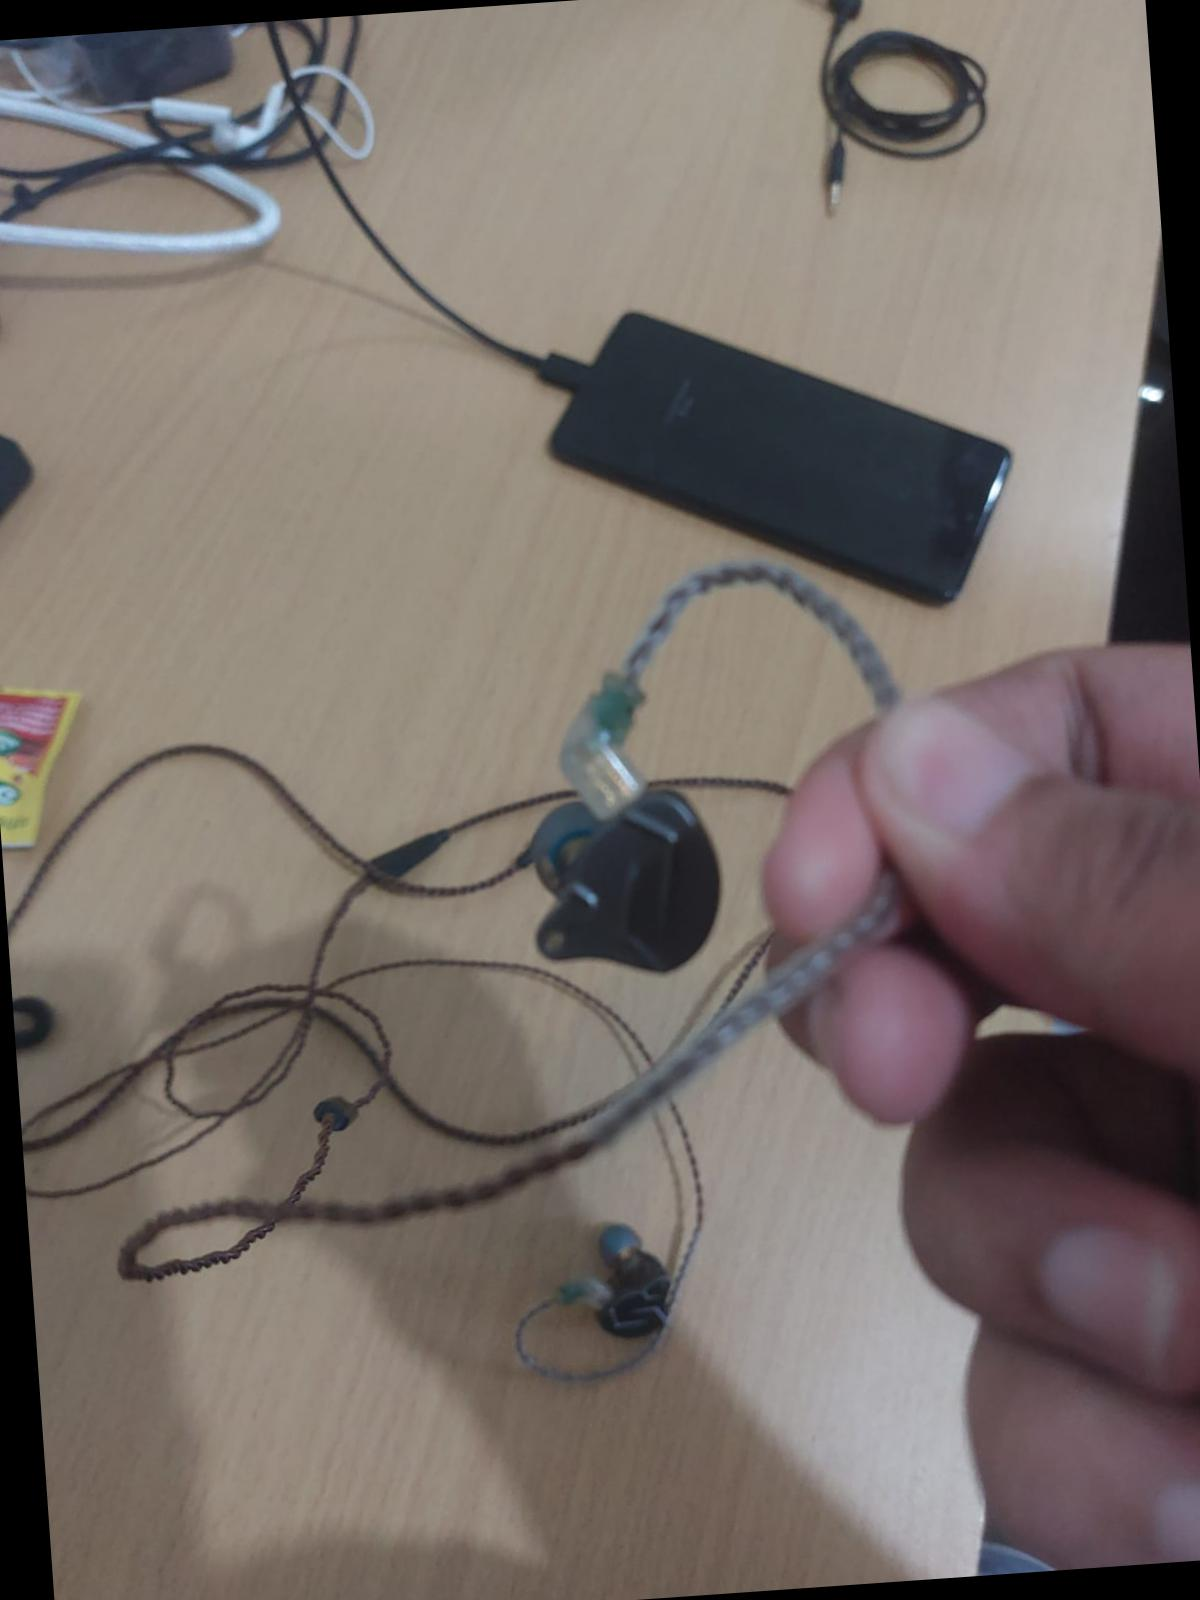Earphone: (484, 718, 736, 998)
